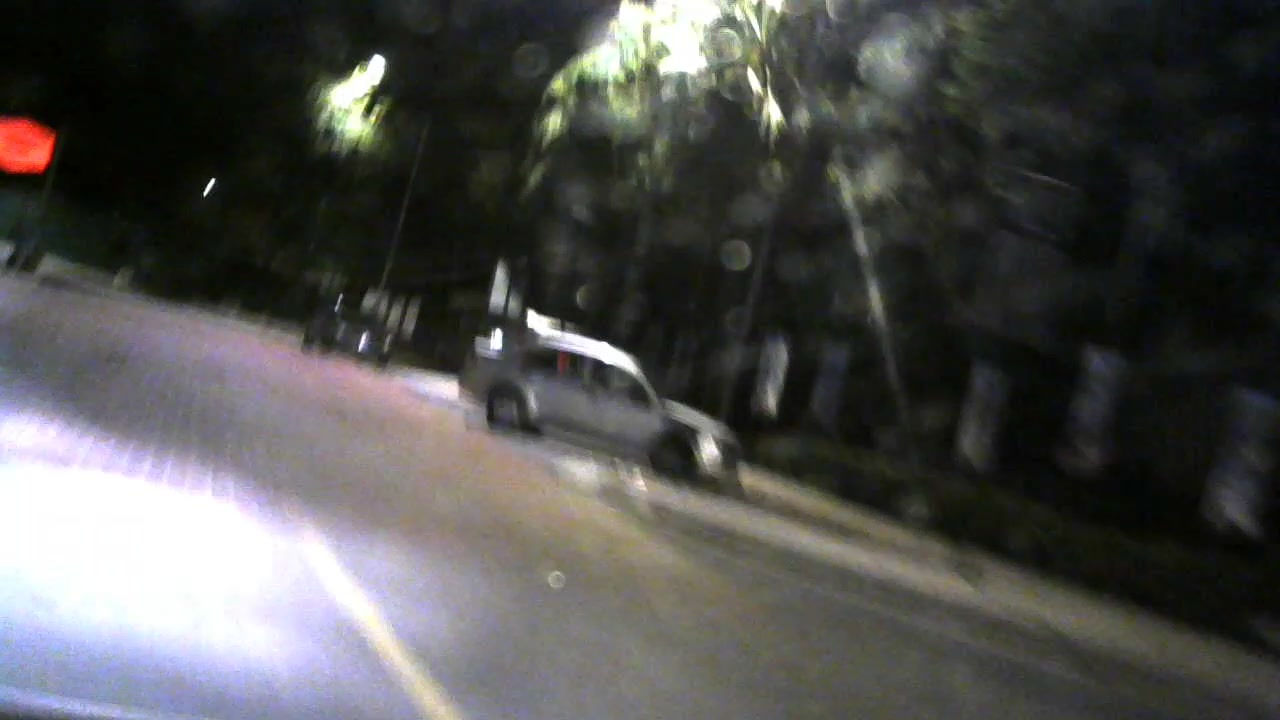Car: (411, 312, 751, 491), (293, 302, 398, 366)
